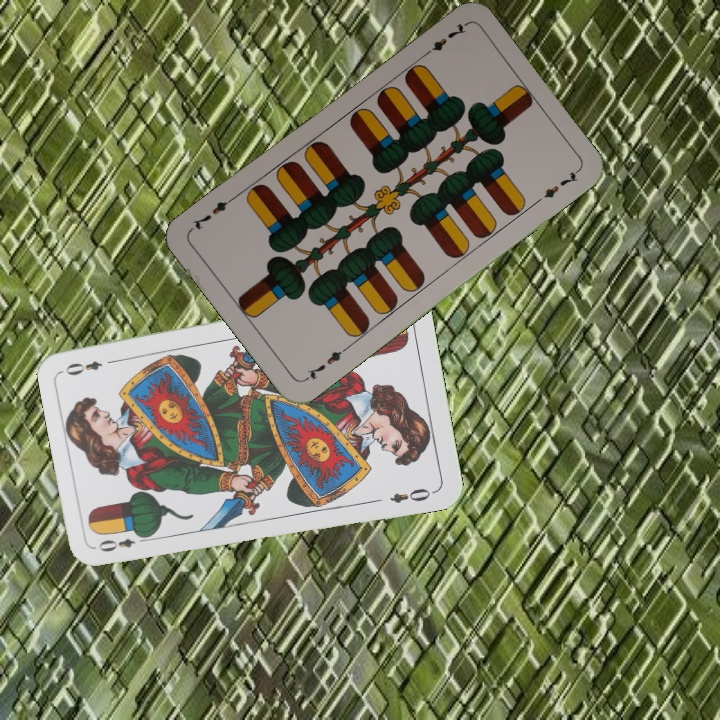E7: (300, 343, 351, 384), (418, 19, 469, 60)
EO: (94, 529, 152, 555)
